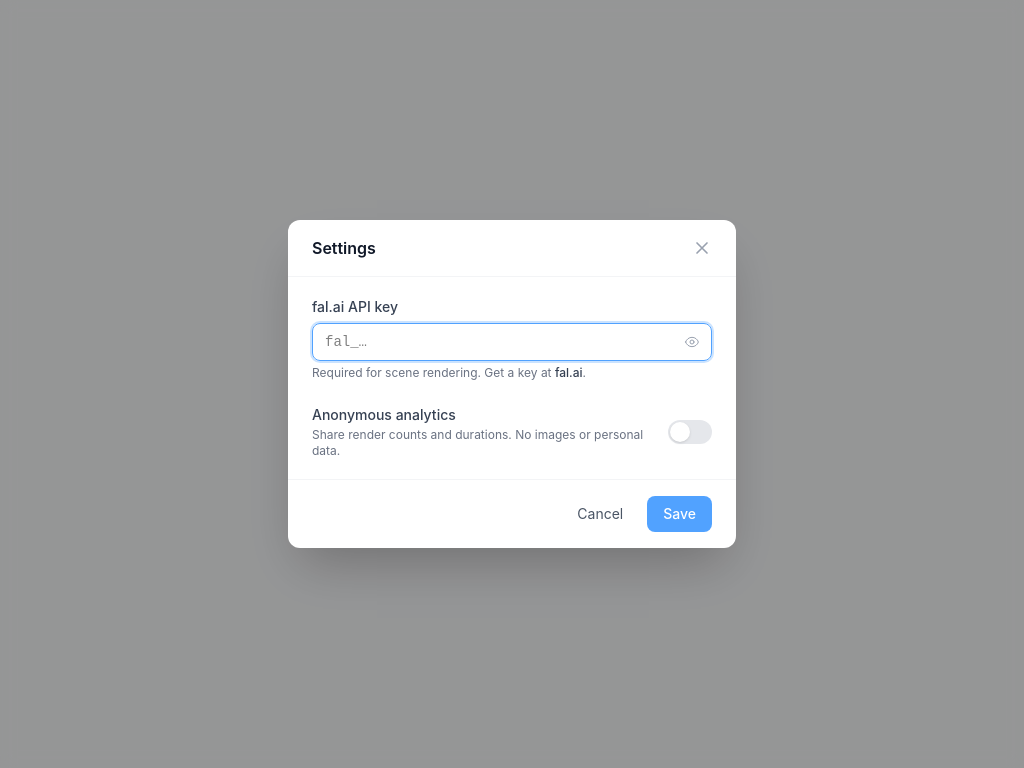
SettingsPanel › shows error message when save fails
Click the button "Save": {"x": 680, "y": 514} [647,496,712,532]
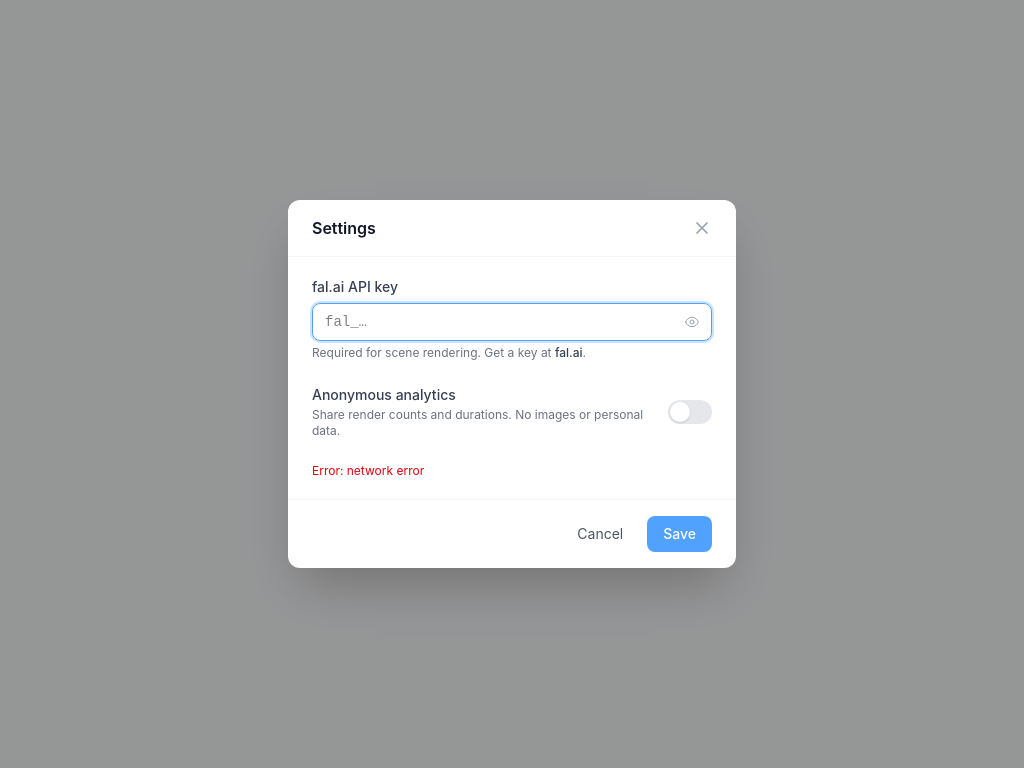
Result: the message "Error: network error" is shown at [312,463,424,478]
